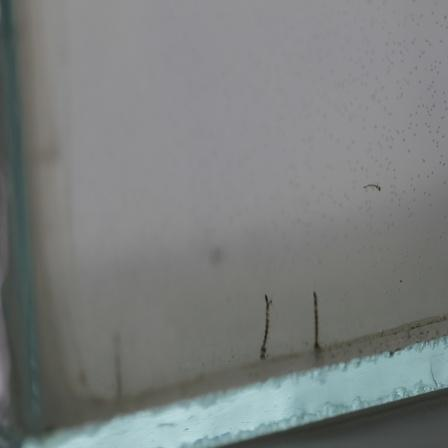Jentik-Nyamuk: (258, 290, 278, 360), (308, 288, 327, 353)
